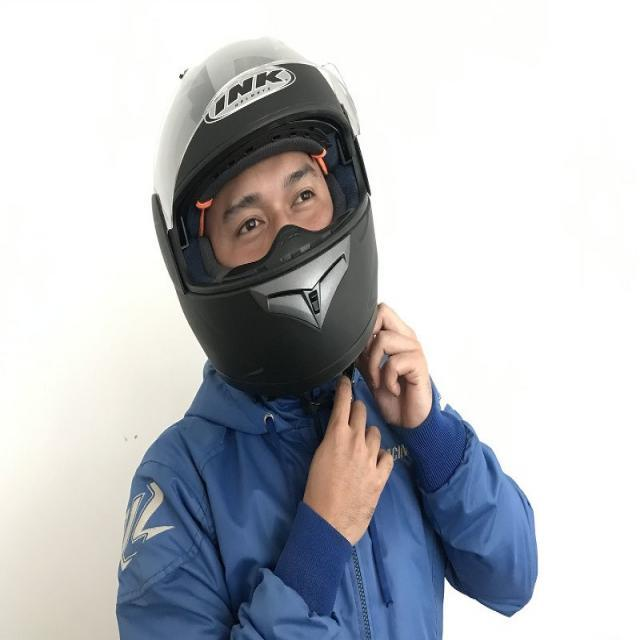Helm: (147, 38, 386, 396)
